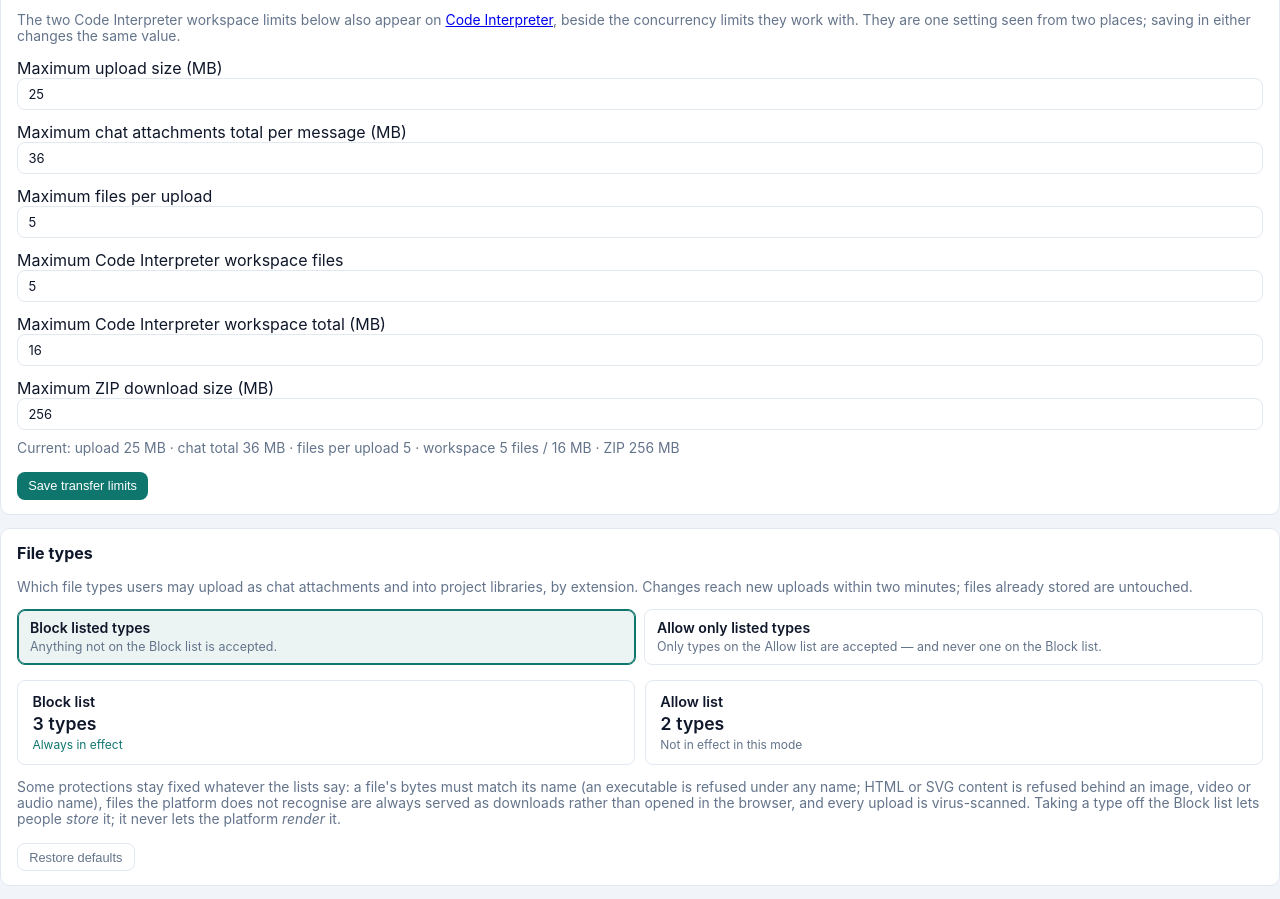
the File types card › switches the mode only after a confirm, sending both lists back unchanged
The image size is (1280, 899).
Click the button that starts with "Allow only listed types" at (954, 637), box [644,609,1263,665]
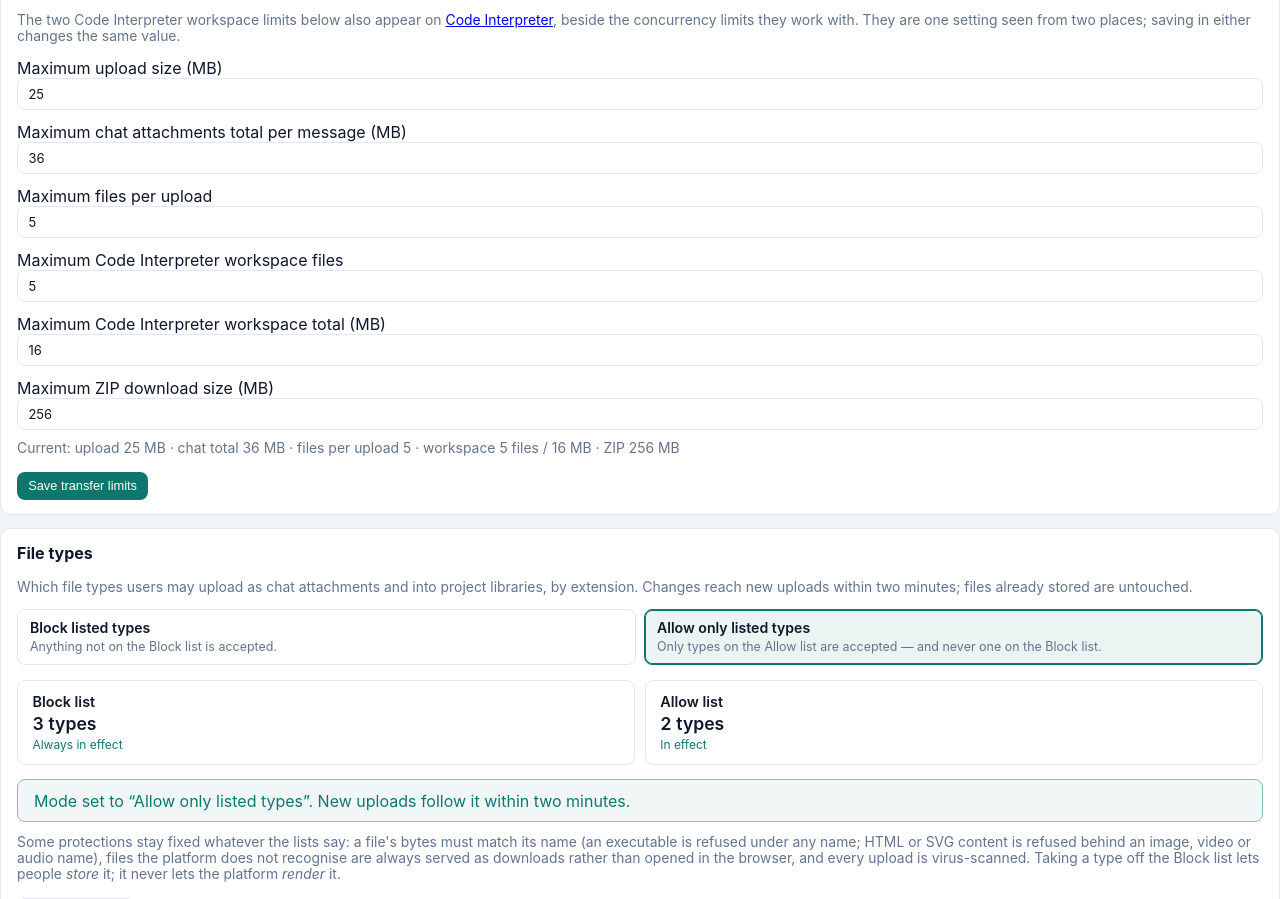
Now the button "Not in effect in this mode" no longer shows "Not in effect"
